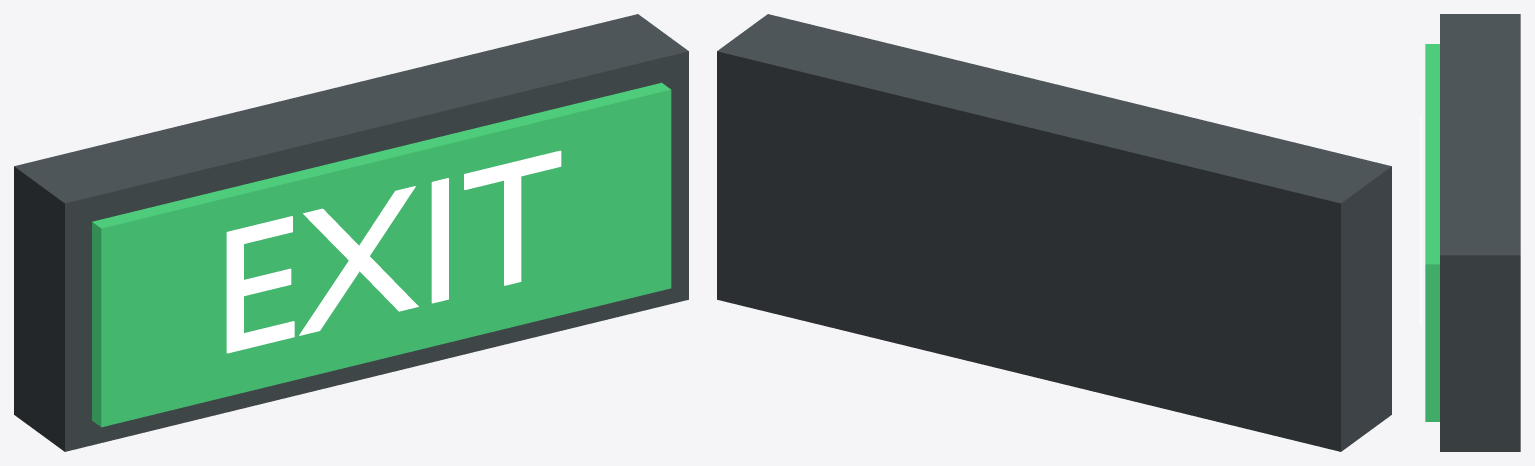
The model's file is exit_sign.glb.
3 views of the same model, side by side, from view 1: azimuth 30°, elevation 25°; view 2: azimuth 150°, elevation 25°; view 3: azimuth 270°, elevation 25° (orthographic). The views are drawn at different scales.
Parts seen in each view (by area): view 1: exit_sign_ExitGreen, exit_sign_Steel, exit_sign_Lamp; view 2: exit_sign_Steel; view 3: exit_sign_Steel, exit_sign_ExitGreen, exit_sign_Lamp.
Boxes of the visible parts, left/top/right/bottom form: exit_sign_ExitGreen: left=92, top=82, right=671, bottom=427; exit_sign_Steel: left=14, top=14, right=688, bottom=451; exit_sign_Lamp: left=226, top=150, right=561, bottom=353; exit_sign_Steel: left=717, top=14, right=1391, bottom=451; exit_sign_Steel: left=1440, top=14, right=1520, bottom=451; exit_sign_ExitGreen: left=1425, top=44, right=1439, bottom=421; exit_sign_Lamp: left=1420, top=116, right=1421, bottom=325.
Size of the model in its own units: 0.92 by 0.35 by 0.162.
